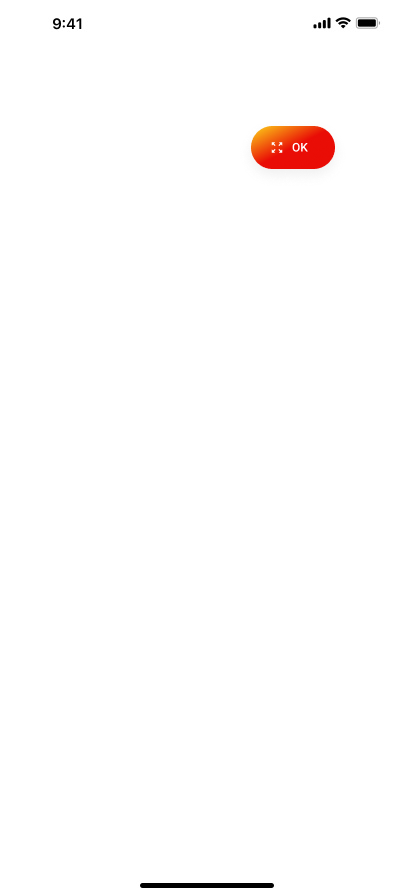Buttons: (236, 117, 350, 190)
Home Indicator: (0, 862, 414, 896)
Status Bar: (0, 0, 414, 44)
